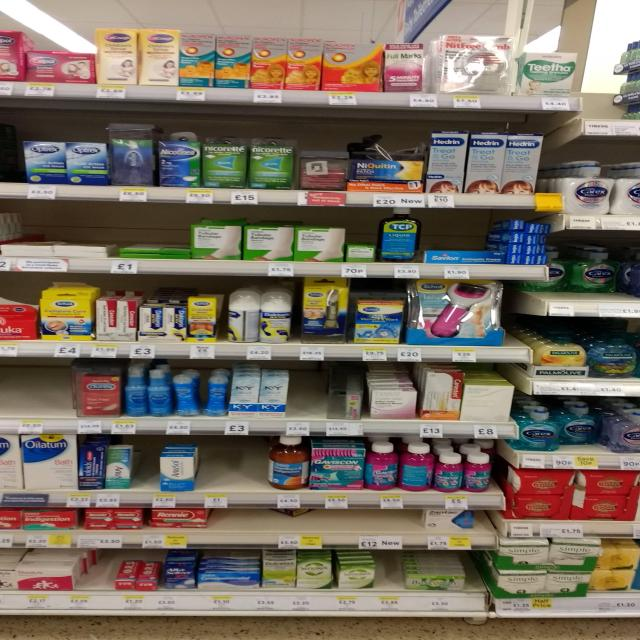empty: (209, 507, 422, 531), (2, 359, 70, 415), (201, 437, 268, 489), (290, 365, 326, 420), (135, 442, 159, 488), (376, 550, 401, 592), (90, 563, 116, 587)
